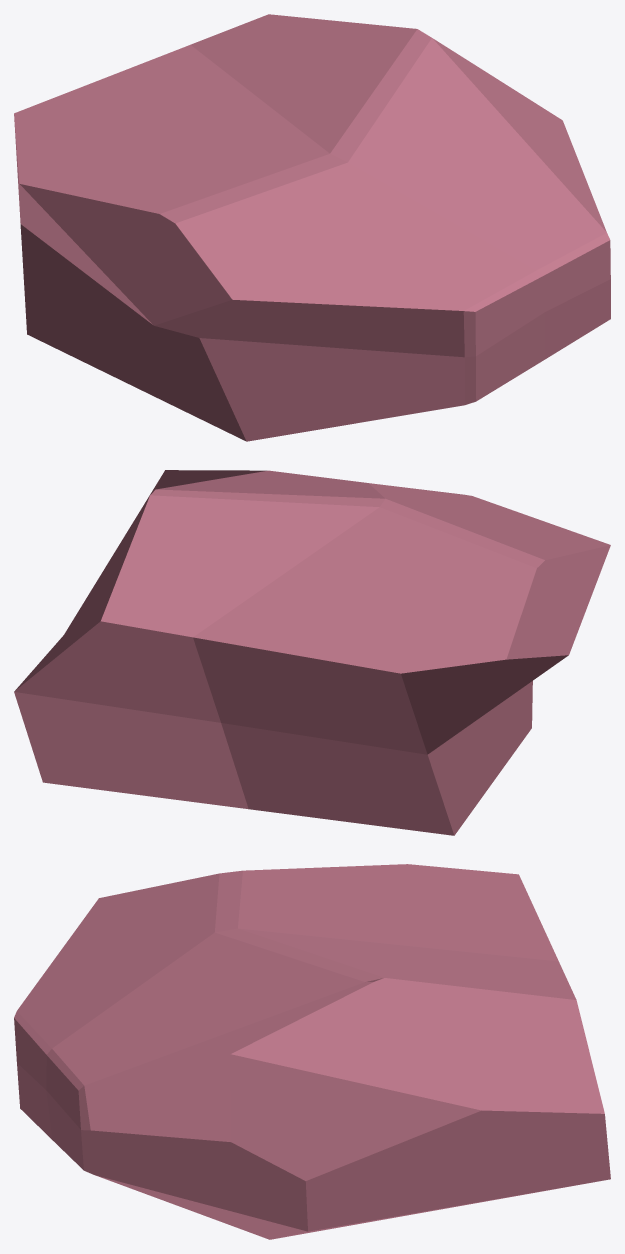
File: Medium Rock 2.fbx
3 renders of one model, top to bottom at view 1: azimuth 30°, elevation 25°; view 2: azimuth 150°, elevation 25°; view 3: azimuth 270°, elevation 25°, orthographic. The views are drawn at different scales.
Parts seen in each view (by area): view 1: Medium Rock 2; view 2: Medium Rock 2; view 3: Medium Rock 2.
Boxes of the visible parts, x1=… form: Medium Rock 2: x1=14, y1=14, x2=610, y2=441; Medium Rock 2: x1=14, y1=470, x2=610, y2=835; Medium Rock 2: x1=14, y1=864, x2=610, y2=1239.
Bounding box in the file's own units: 129 × 66.62 × 146.
